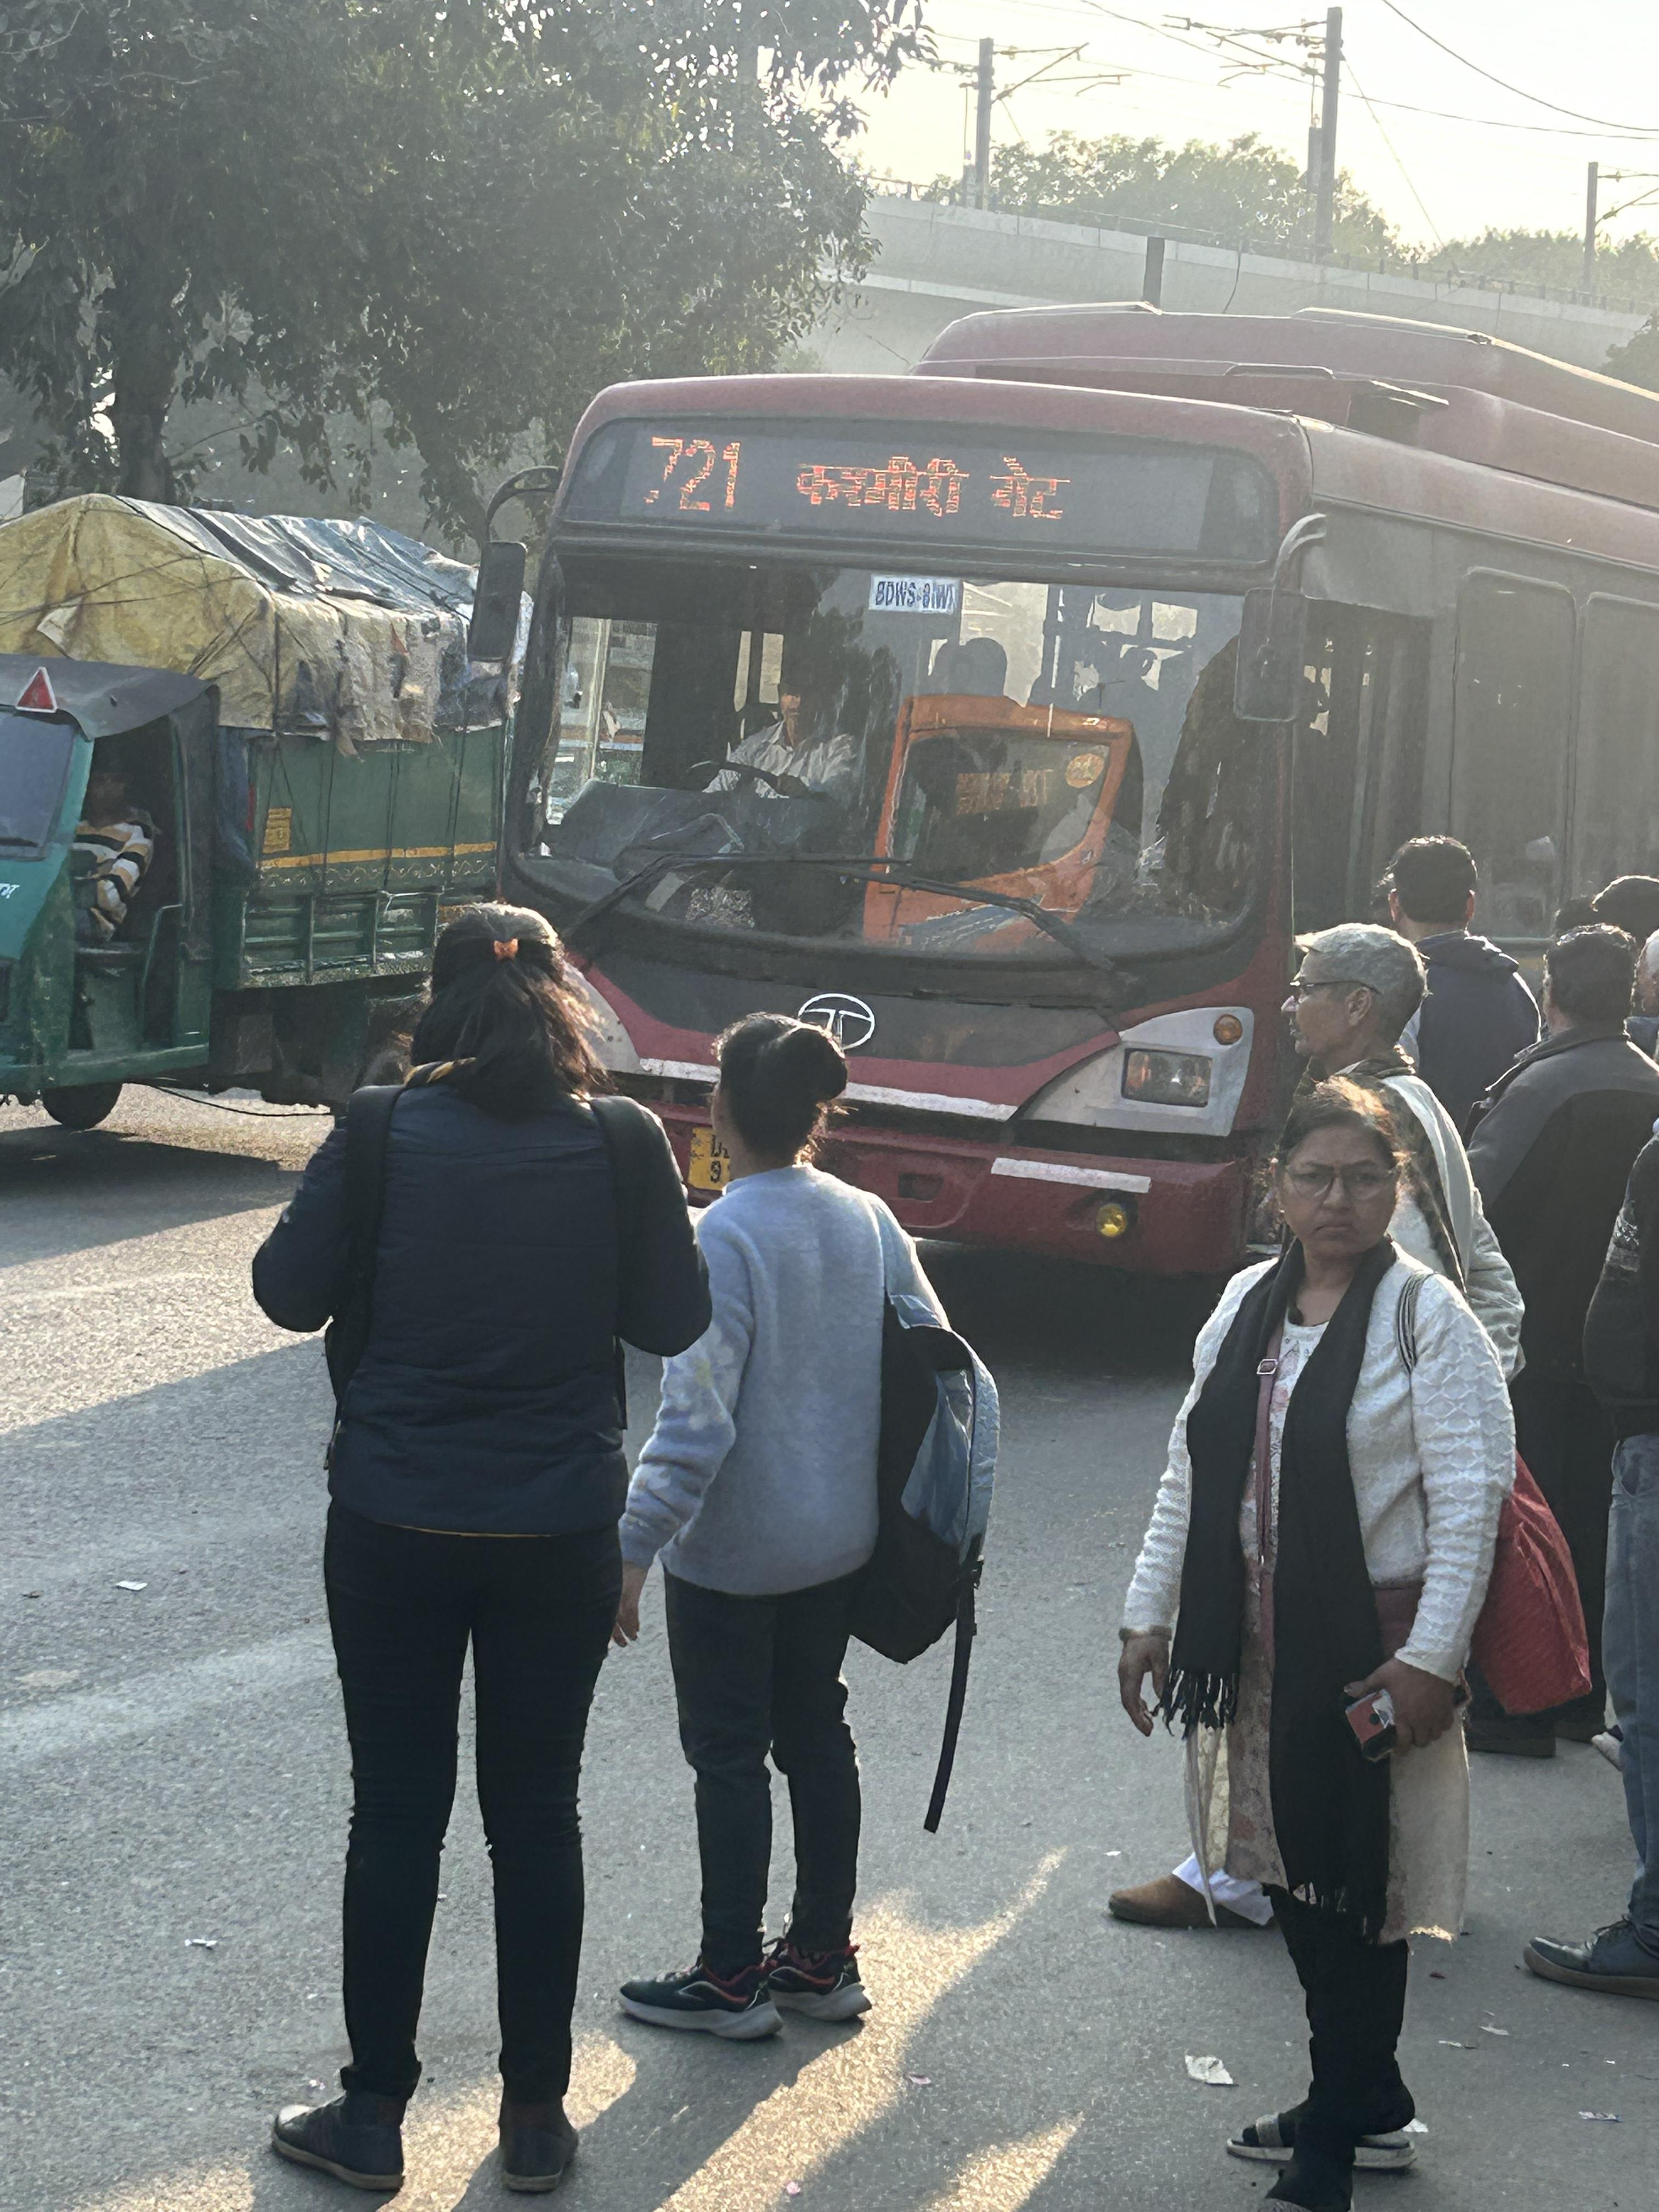Bus: (434, 345, 1492, 1360)
Display Board: (559, 390, 1290, 564)
